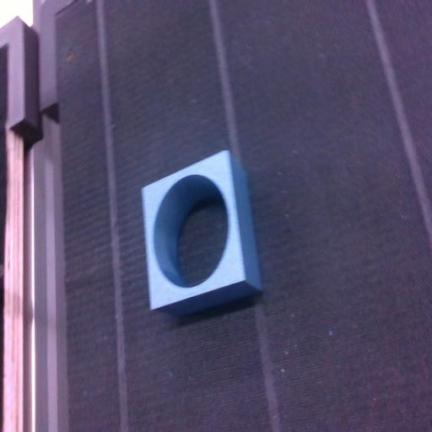hole: (143, 151, 260, 314)
